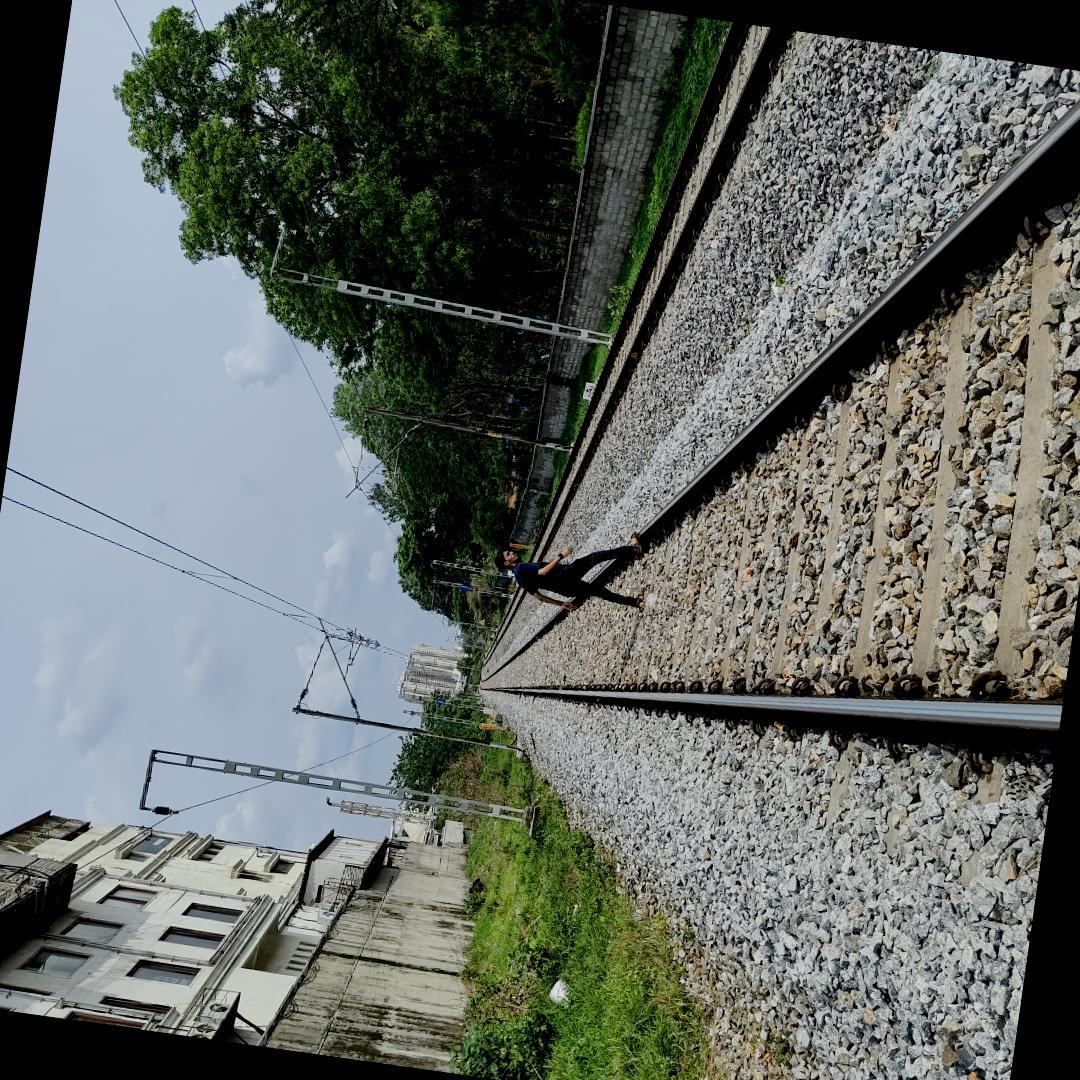standing: (491, 527, 653, 612)
track: (473, 78, 1080, 777)
